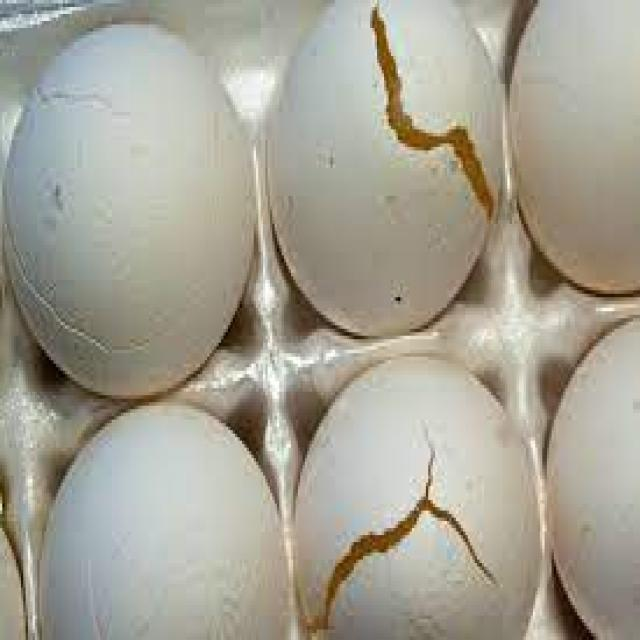biodegradable: (6, 27, 260, 394), (268, 1, 503, 332), (294, 351, 544, 640), (32, 395, 292, 640), (504, 3, 638, 294), (546, 317, 640, 640)
